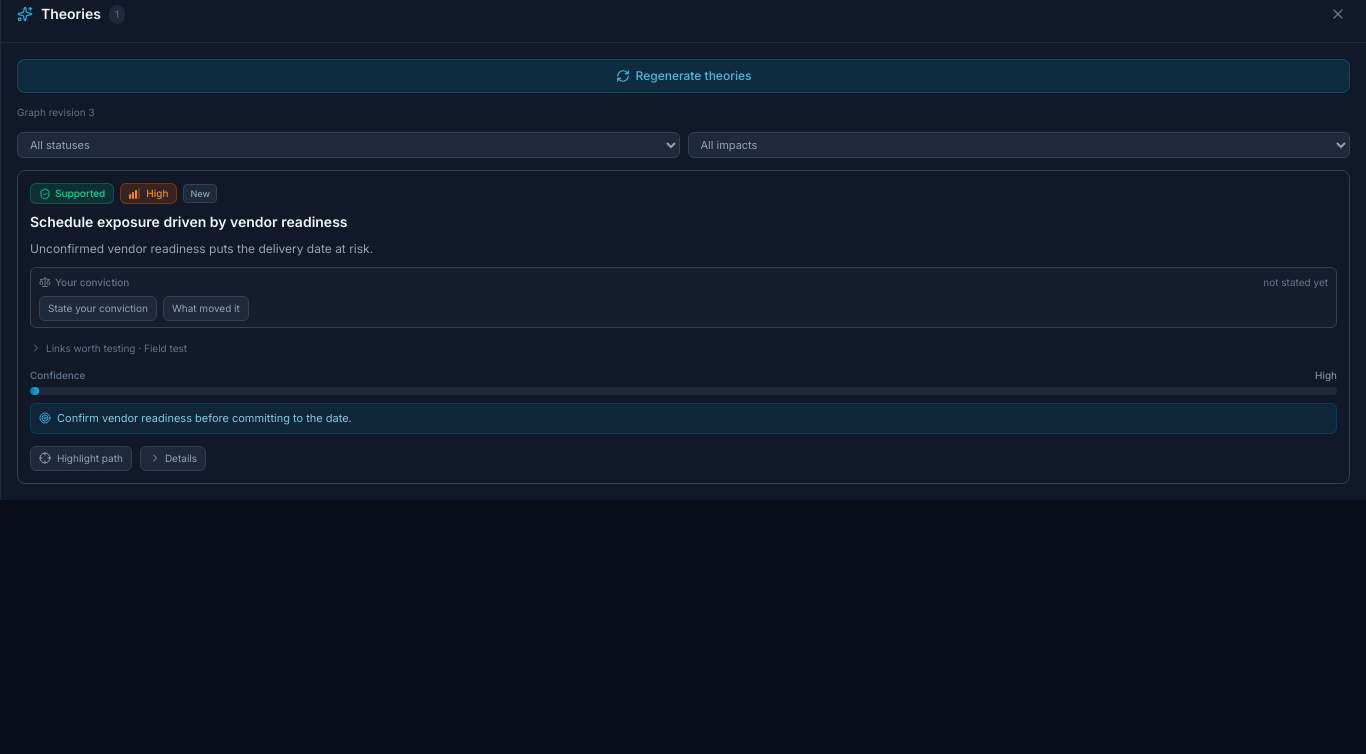
Test case: Theory panel: tripwires › shows an already-observed tripwire without action buttons
What coordinates should you click on to do the following:
click the button "Details"
I would click on:
 (173, 458)
Its box is [140,446,206,471].
(page scrolled)
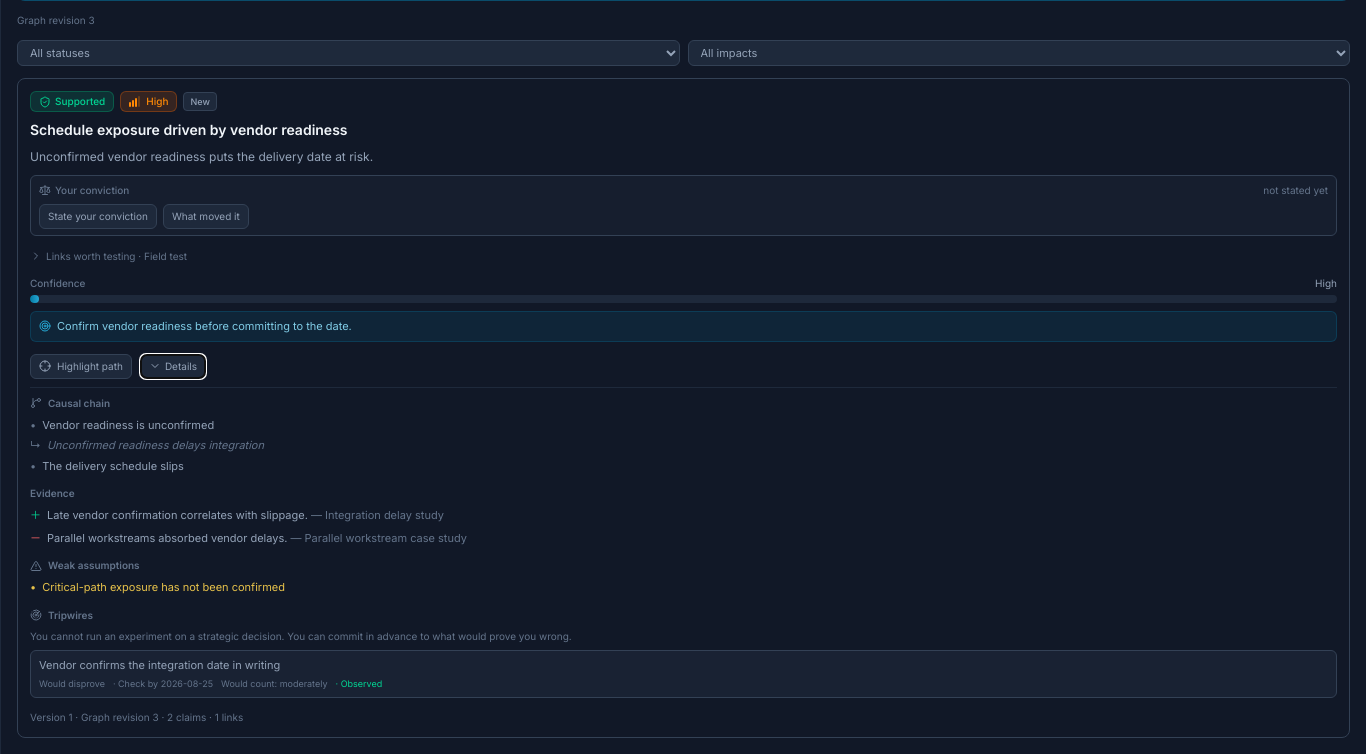
Check: the text "· Observed" is shown, box [336,677,382,691]
